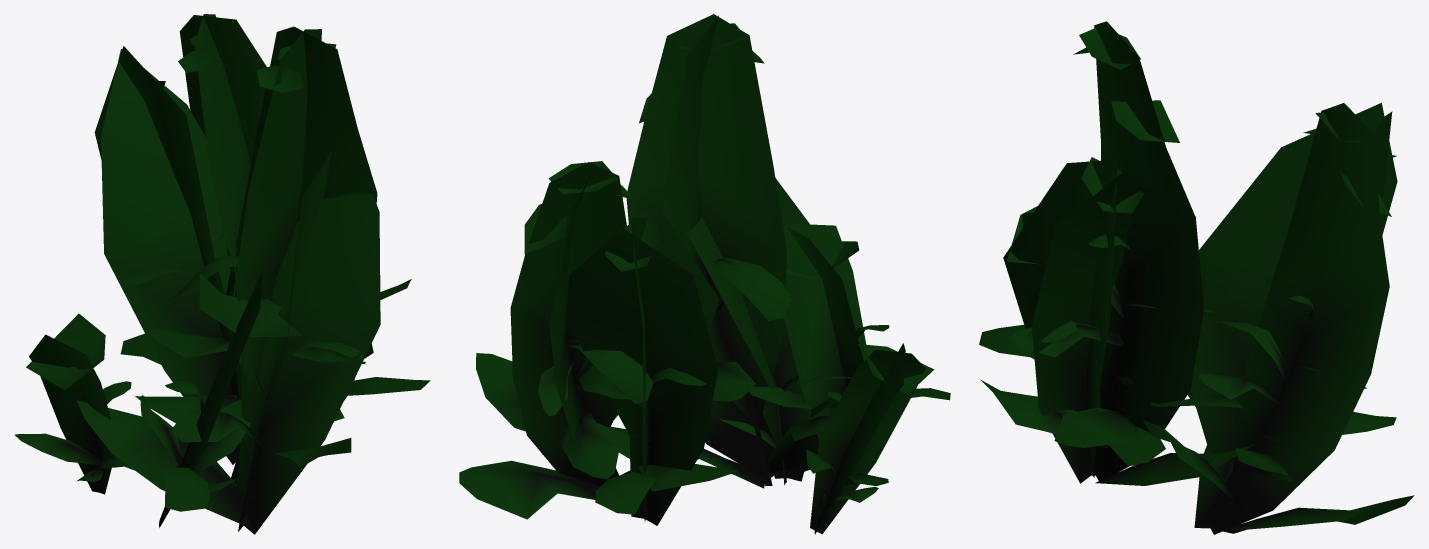
Rendered from FlowersWhiteGCATA_H.fbx.
The picture shows the model from 3 angles, left to right: view 1: azimuth 30°, elevation 25°; view 2: azimuth 150°, elevation 25°; view 3: azimuth 270°, elevation 25°; orthographic projection. The views are drawn at different scales.
Parts seen in each view (by area): view 1: FWGCATAH_LOD0; view 2: FWGCATAH_LOD0; view 3: FWGCATAH_LOD0.
Part boxes in pixels (bbox=[...]): FWGCATAH_LOD0: bbox=[14, 14, 430, 534]; FWGCATAH_LOD0: bbox=[459, 14, 950, 534]; FWGCATAH_LOD0: bbox=[979, 21, 1414, 534].
Size of what is drawn, in the model's own units: 0.8591 by 0.9558 by 0.7571.
